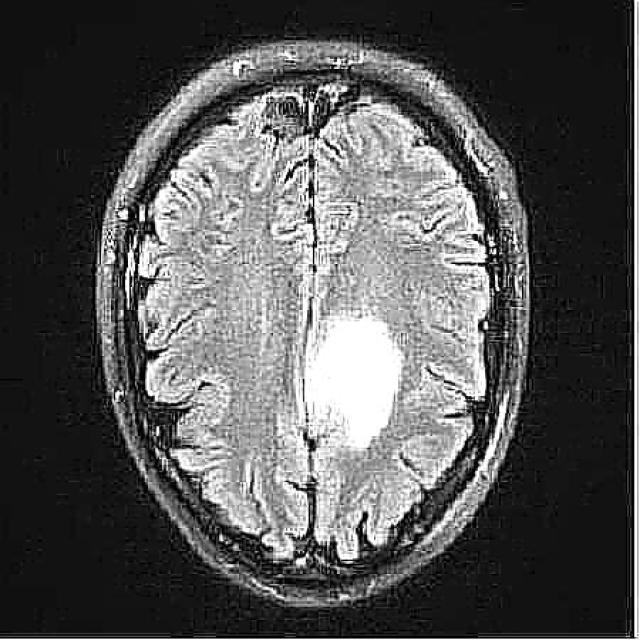Tumor-Cell: (301, 279, 408, 446)
